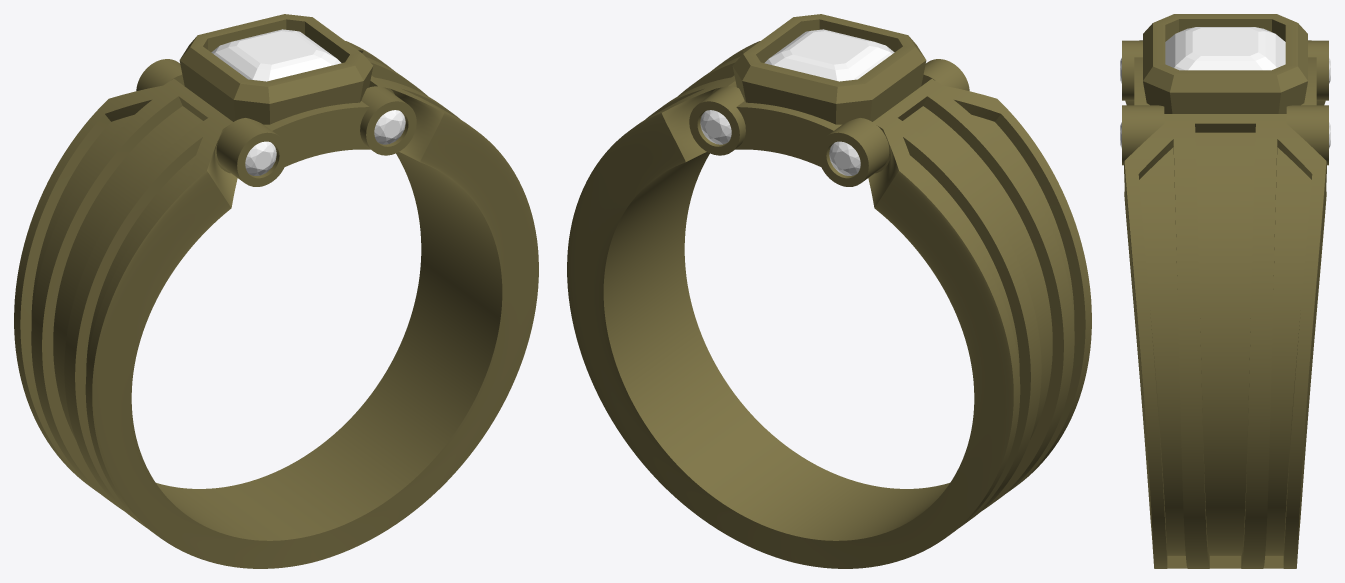
File: ring3ring.glb
3 views of the same model, side by side, from view 1: azimuth 30°, elevation 25°; view 2: azimuth 150°, elevation 25°; view 3: azimuth 270°, elevation 25° (orthographic). The views are drawn at different scales.
Parts seen in each view (by area): view 1: Object22, Object11; view 2: Object22, Object11; view 3: Object22, Object11.
Boxes of the visible parts, box(x1,y1,x2,y2) form: Object22: box(14, 14, 538, 568); Object11: box(211, 29, 405, 175); Object22: box(567, 14, 1091, 568); Object11: box(700, 29, 894, 175); Object22: box(1122, 14, 1328, 568); Object11: box(1120, 27, 1330, 148).
Bounding box in the file's own units: 2.33 × 2.44 × 0.9271.
